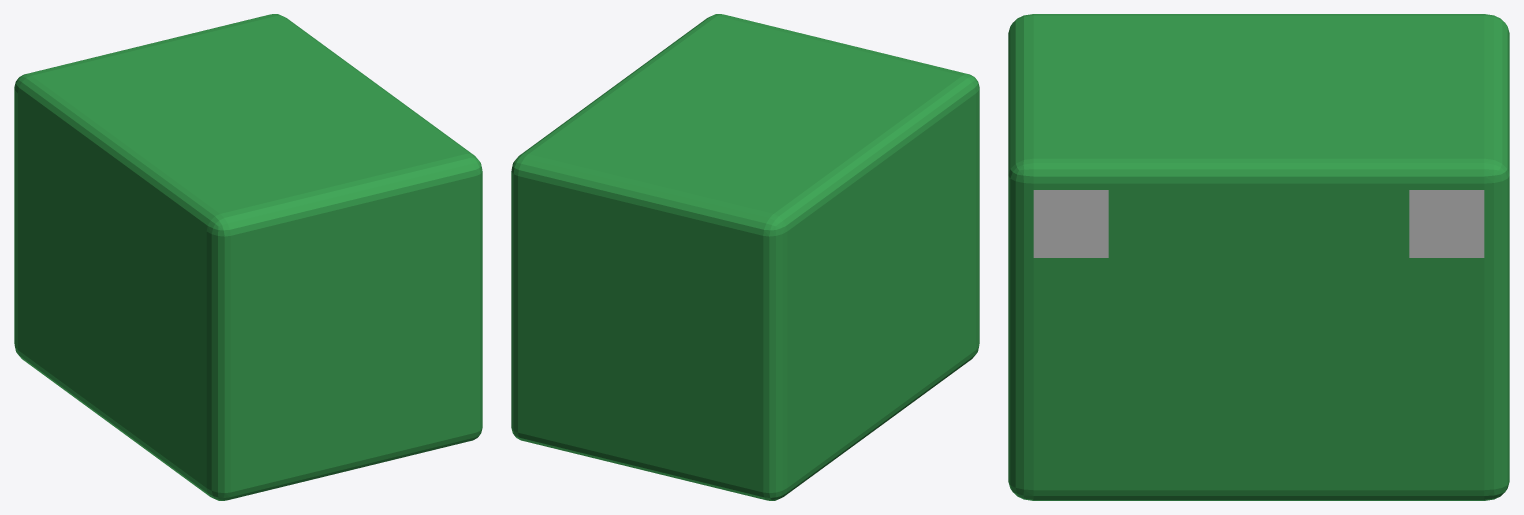
The model's file is RState_Highlight_Hashtag.dae.
The picture shows the model from 3 angles, left to right: view 1: azimuth 30°, elevation 25°; view 2: azimuth 150°, elevation 25°; view 3: azimuth 270°, elevation 25°; orthographic projection. The views are drawn at different scales.
Parts seen in each view (by area): view 1: Cube; view 2: Cube; view 3: Cube, Plane, Plane_001.
Boxes of the visible parts, <box> form: Cube: <box>14,14,482,500</box>; Cube: <box>511,14,979,500</box>; Cube: <box>1008,14,1509,500</box>; Plane: <box>1033,190,1108,257</box>; Plane_001: <box>1409,190,1484,257</box>.
Bounding box in the file's own units: 1.51 × 2 × 1.5.
